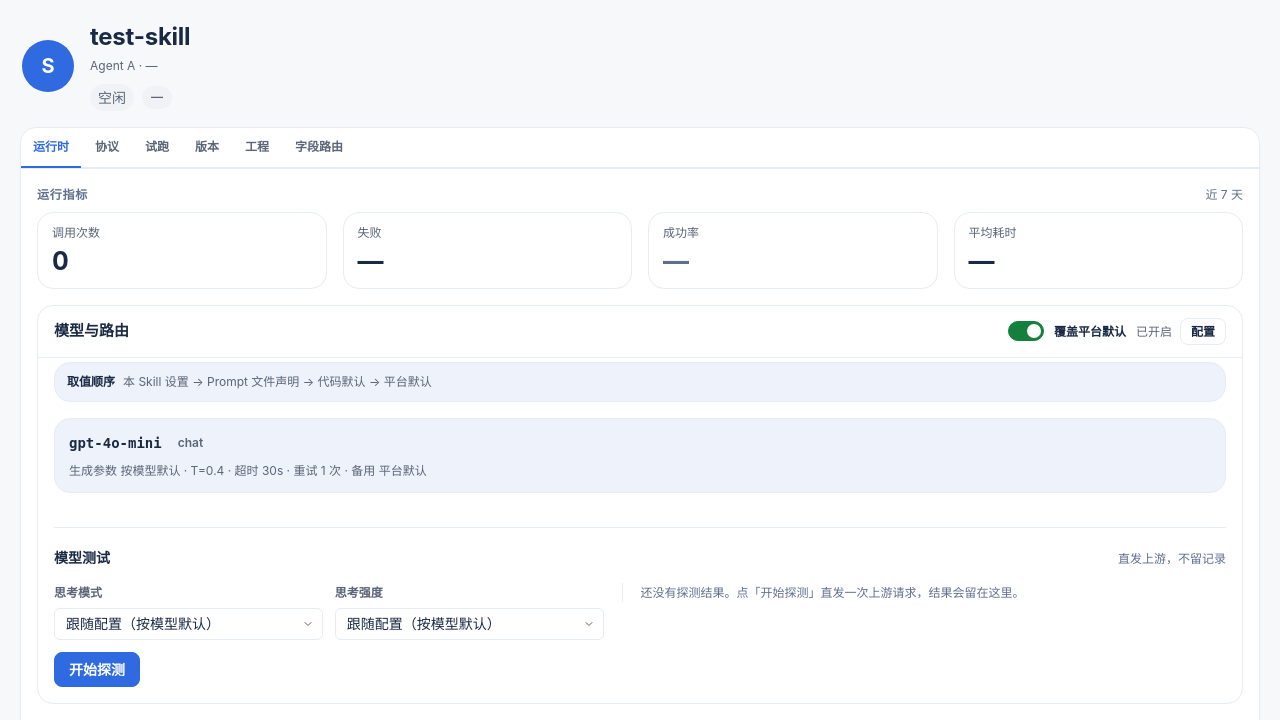
Test: Skill 详情页·设计能力平铺冒烟 › 版本 tab = 单一入口：核心文件版本 + Prompt 版本 同页分区
Click the tab with class "mk-subtab" showing "版本": (207, 148) [183,128,231,168]
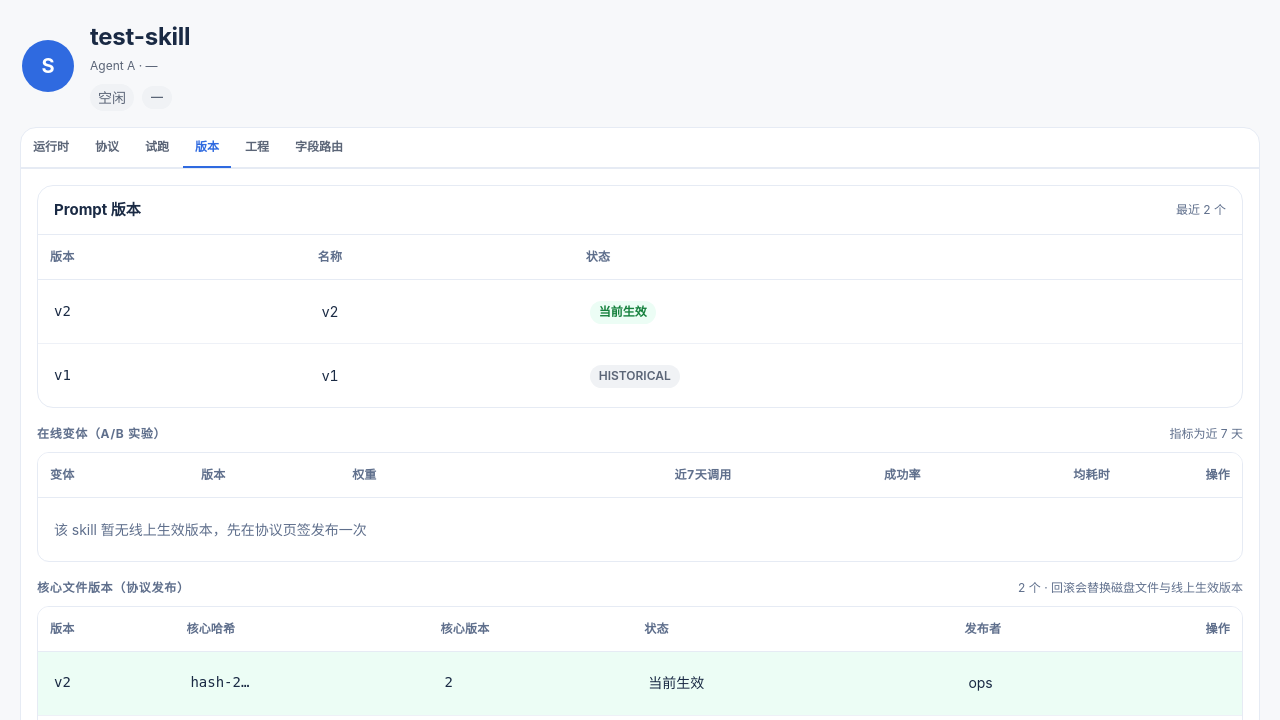
Expected: the text "核心文件版本（协议发布）" is shown, [37,578,190,598]
Expected: the text "Prompt 版本" is shown, [54,200,141,219]
Expected: the text "回滚" is shown, [1018,578,1243,598]
